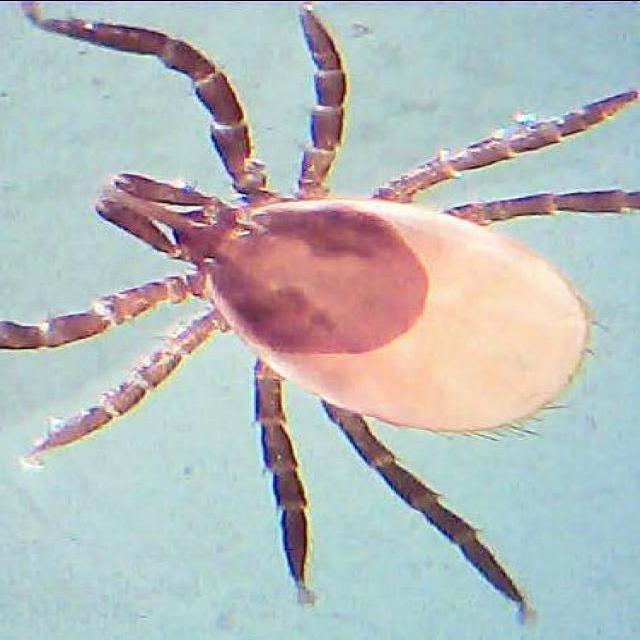Ixodes Ricinus-F-Fed: (0, 0, 640, 625)
